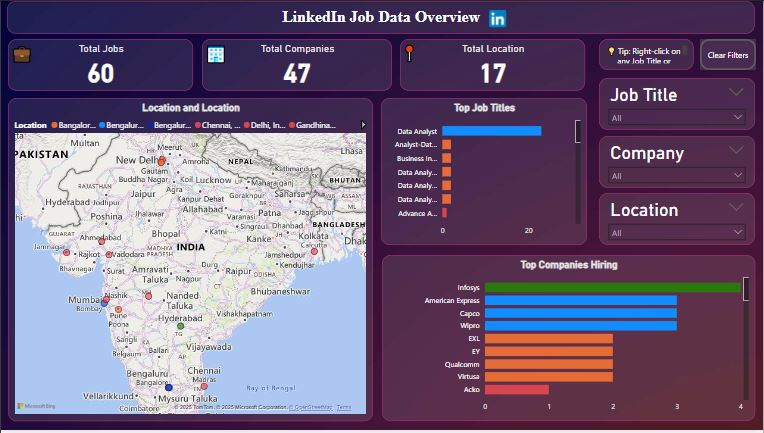

The page's visual inventory and layout, read from the dashboard file:
{"tool":"powerbi","page":{"name":"Home Dashboard","canvas":[1280,720],"ordinal":0},"visuals":[{"type":"textbox","box":[10.1,0,1256.4,54.9],"z":0},{"type":"card","title":"Total Jobs","fields":{"Values":["CountNonNull(linkedin_jobs.Job Title)"]},"box":[11.8,63.8,311,87.3],"z":1000},{"type":"card","title":"Total Companies","fields":{"Values":["Count(linkedin_jobs.Company)"]},"box":[337.6,63.8,319.2,87.3],"z":2000},{"type":"card","title":"Total Location","fields":{"Values":["Count(linkedin_jobs.Location)"]},"box":[670.2,63.8,311,87.3],"z":3000},{"type":"clusteredBarChart","title":"Top Companies Hiring","fields":{"Category":["linkedin_jobs.Company"],"Y":["CountNonNull(linkedin_jobs.Job Title)"]},"box":[640,426.7,626.6,278.8],"z":4000},{"type":"clusteredBarChart","title":"Top Job Titles","fields":{"Category":["linkedin_jobs.Job Title"],"Y":["CountNonNull(linkedin_jobs.Job Title)"]},"box":[638.3,162.9,346,246.9],"z":5000},{"type":"slicer","fields":{"Values":["linkedin_jobs.Job Title"]},"box":[1004.5,129.3,262,87.3],"z":6000},{"type":"slicer","fields":{"Values":["linkedin_jobs.Company"]},"box":[1004.5,226.8,262,87.3],"z":7000},{"type":"slicer","fields":{"Values":["linkedin_jobs.Location"]},"box":[1004.5,322.5,262,87.3],"z":8000},{"type":"map","fields":{"Series":["linkedin_jobs.Location"],"Category":["linkedin_jobs.Location"]},"box":[11.8,162.9,613.1,542.6],"z":9000},{"type":"actionButton","title":"Clear Filters","box":[1174,63.6,94,52],"z":10000},{"type":"textbox","box":[1004.8,63.6,159,52],"z":11000},{"type":"image","box":[815.4,10.1,39,39],"z":12000},{"type":"textbox","box":[11.6,65.1,81,63.6],"z":13000},{"type":"textbox","box":[338.3,65.1,112.8,63.6],"z":14000},{"type":"textbox","box":[670.8,63.6,79.5,50.6],"z":15000}]}

Visuals, with their boxes in screenshot pixels (x1, y1, x2, y2), scaled from the page's 1280x720 canvas onto the 764x433 screenshot:
textbox: [6,0,756,33]
"Total Jobs" card: [7,38,193,91]
"Total Companies" card: [202,38,392,91]
"Total Location" card: [400,38,586,91]
"Top Companies Hiring" clusteredBarChart: [382,257,756,424]
"Top Job Titles" clusteredBarChart: [381,98,588,246]
slicer - linkedin_jobs.Job Title: [600,78,756,130]
slicer - linkedin_jobs.Company: [600,136,756,189]
slicer - linkedin_jobs.Location: [600,194,756,246]
map - linkedin_jobs.Location x linkedin_jobs.Location: [7,98,373,424]
"Clear Filters" actionButton: [701,38,757,70]
textbox: [600,38,695,70]
image: [487,6,510,30]
textbox: [7,39,55,77]
textbox: [202,39,269,77]
textbox: [400,38,448,69]
